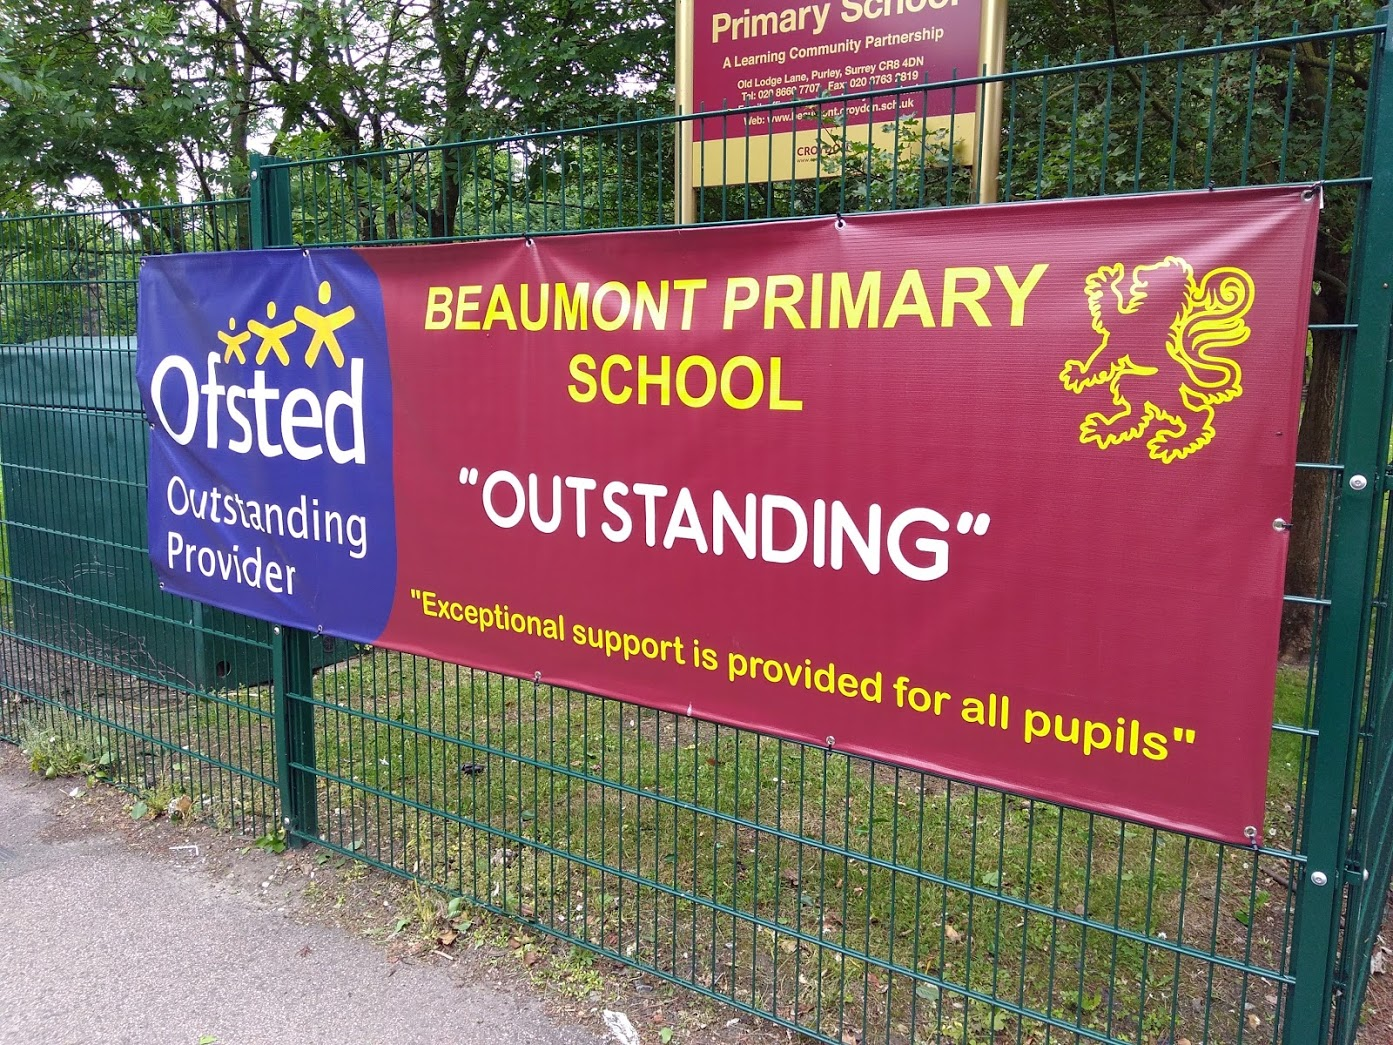vinyl banner: (111, 188, 1324, 836)
